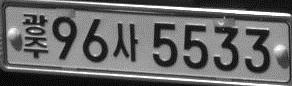3: (244, 27, 270, 73), (213, 25, 239, 70)
5: (182, 24, 208, 69), (152, 22, 177, 67)
6: (82, 19, 108, 63)
9: (51, 15, 78, 60)
광주_V: (22, 14, 48, 59)
사: (112, 23, 138, 62)
